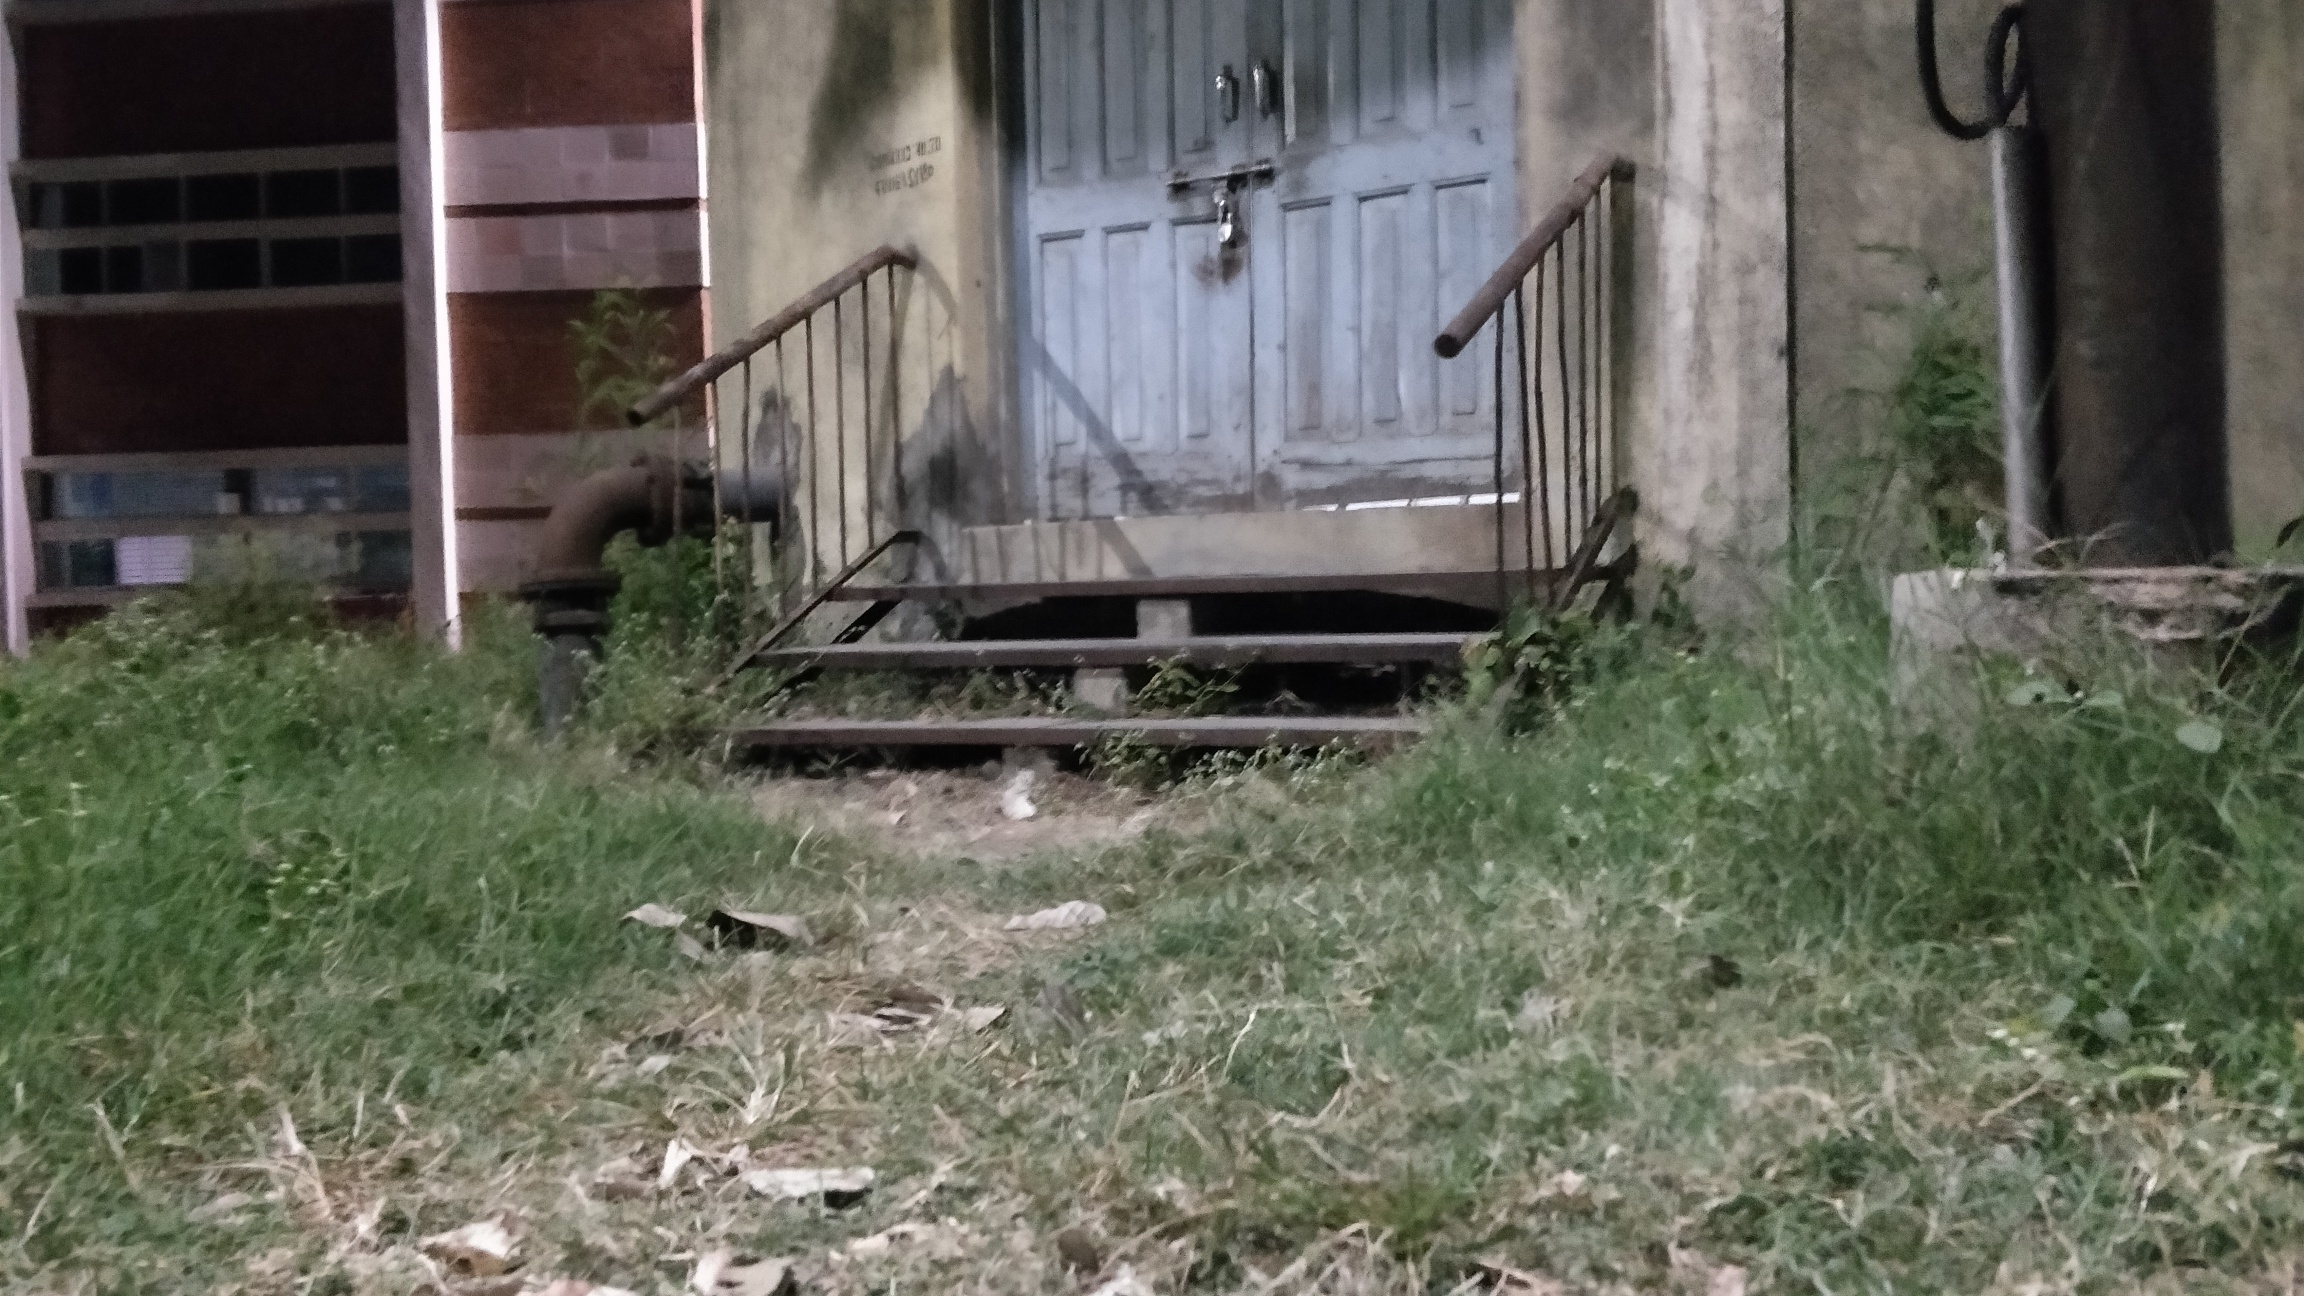stairs_up: (687, 557, 1514, 779)
